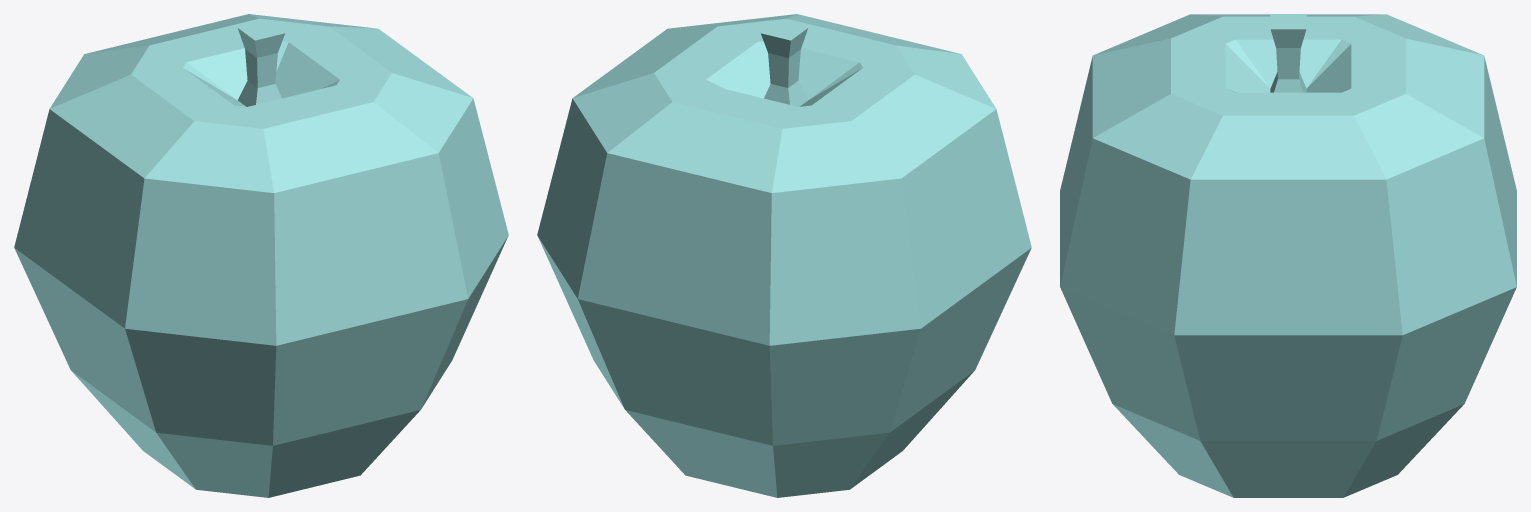
The model's file is apple.fbx.
3 renders of one model, left to right at view 1: azimuth 30°, elevation 25°; view 2: azimuth 150°, elevation 25°; view 3: azimuth 270°, elevation 25°, orthographic. The views are drawn at different scales.
Visible parts, largest first — view 1: apple; view 2: apple; view 3: apple.
Part boxes in pixels (<box>): apple: <box>14,14,508,497</box>; apple: <box>537,14,1031,497</box>; apple: <box>1060,14,1516,497</box>.
Size of the model in its own units: 0.2927 by 0.3041 by 0.2927.
